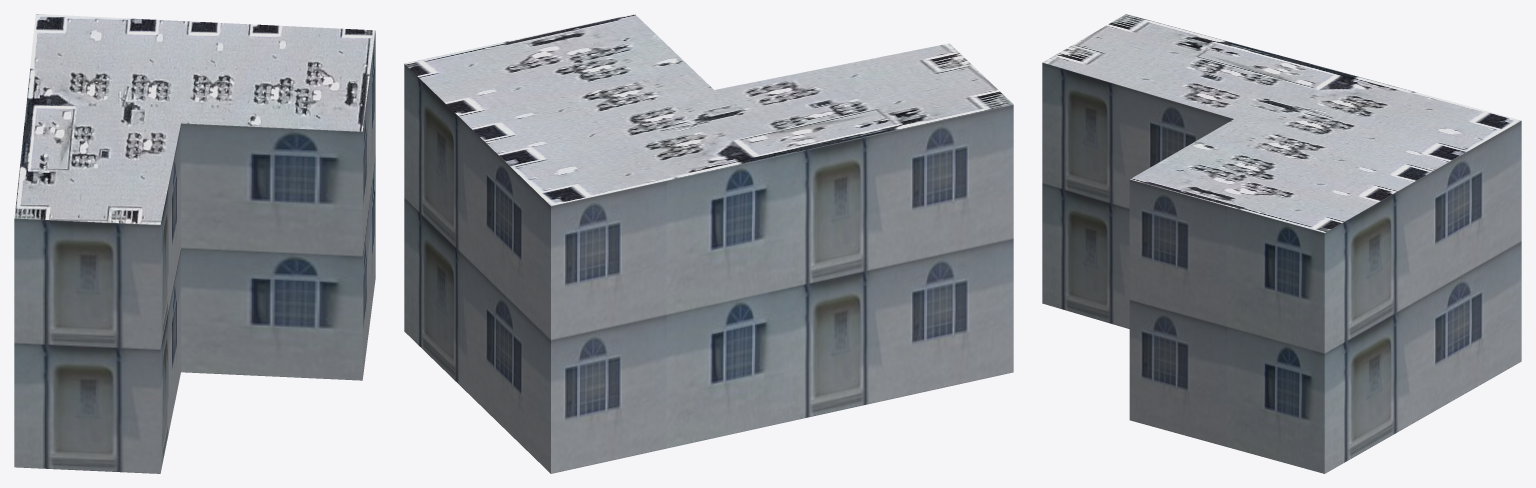
Rendered from ResTex__4513.fbx.
The picture shows the model from 3 angles, left to right: view 1: azimuth 30°, elevation 25°; view 2: azimuth 150°, elevation 25°; view 3: azimuth 270°, elevation 25°; orthographic projection. The views are drawn at different scales.
Parts seen in each view (by area): view 1: CityEngineMaterial_17_m, CityEngineMaterial_4_m; view 2: CityEngineMaterial_17_m, CityEngineMaterial_4_m; view 3: CityEngineMaterial_17_m, CityEngineMaterial_4_m.
Boxes of the visible parts, bbox=[...] form: CityEngineMaterial_17_m: bbox=[14, 31, 375, 473]; CityEngineMaterial_4_m: bbox=[14, 14, 375, 224]; CityEngineMaterial_17_m: bbox=[404, 64, 1013, 473]; CityEngineMaterial_4_m: bbox=[404, 14, 1013, 205]; CityEngineMaterial_17_m: bbox=[1042, 62, 1521, 473]; CityEngineMaterial_4_m: bbox=[1043, 14, 1520, 232].
Size of the model in its own units: 11.7 by 6 by 10.81.
2 materials, 2 textured.
